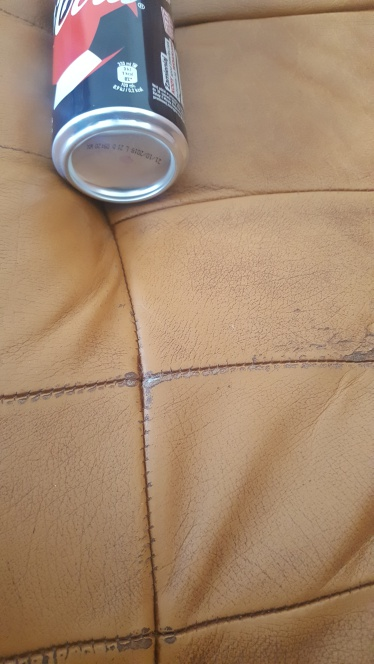colazero: (43, 1, 192, 210)
